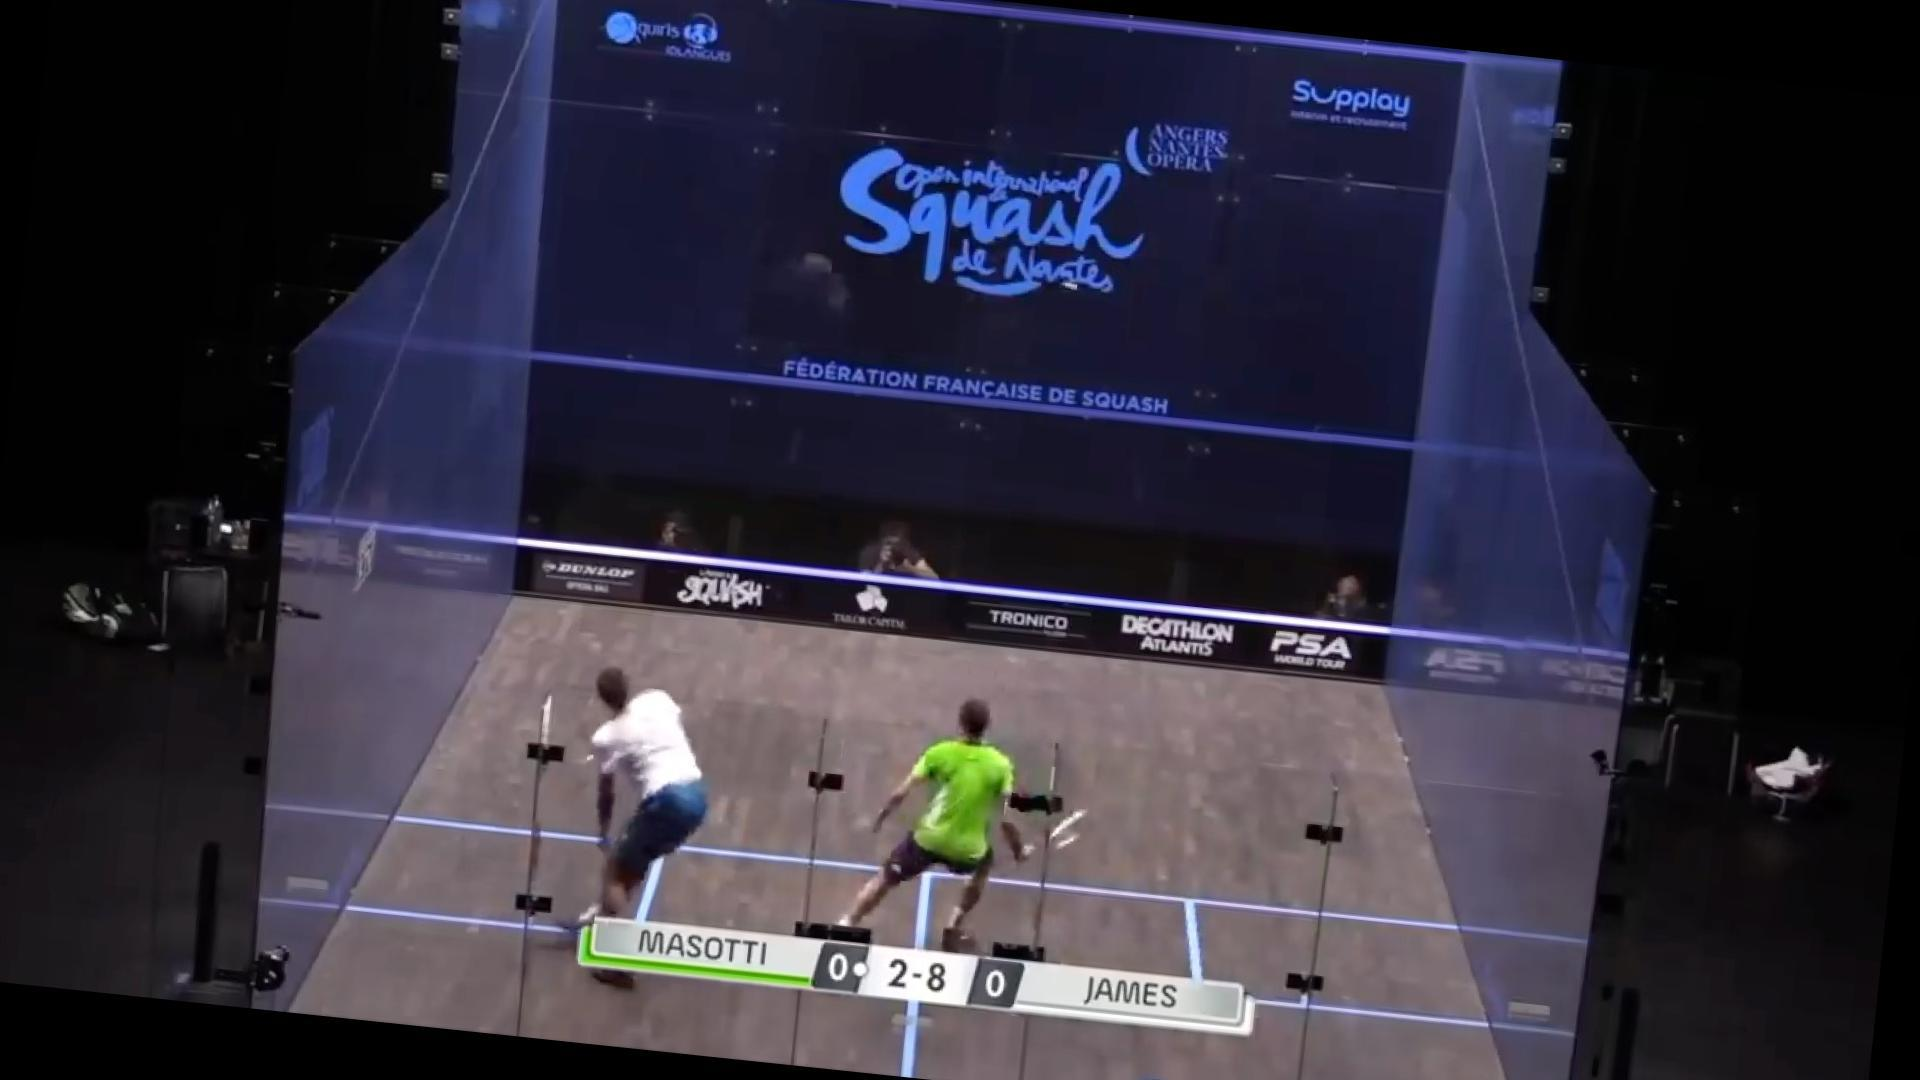Squash-Ball: (1042, 262, 1098, 313)
